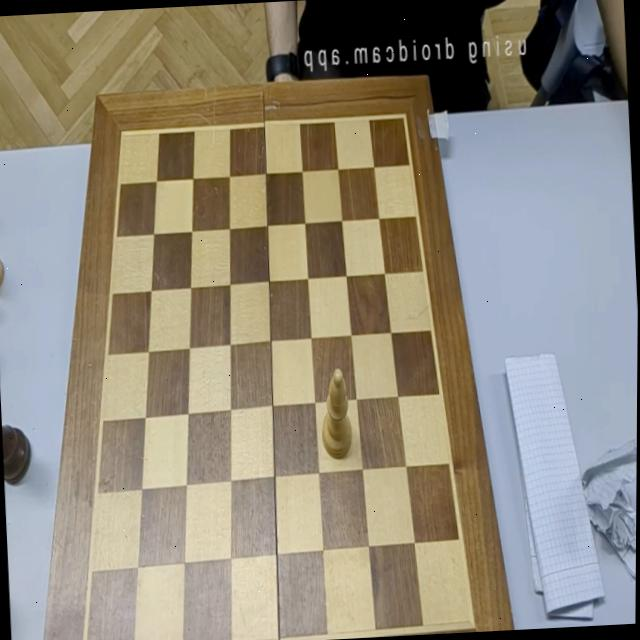white_bishop: (319, 368, 354, 458)
